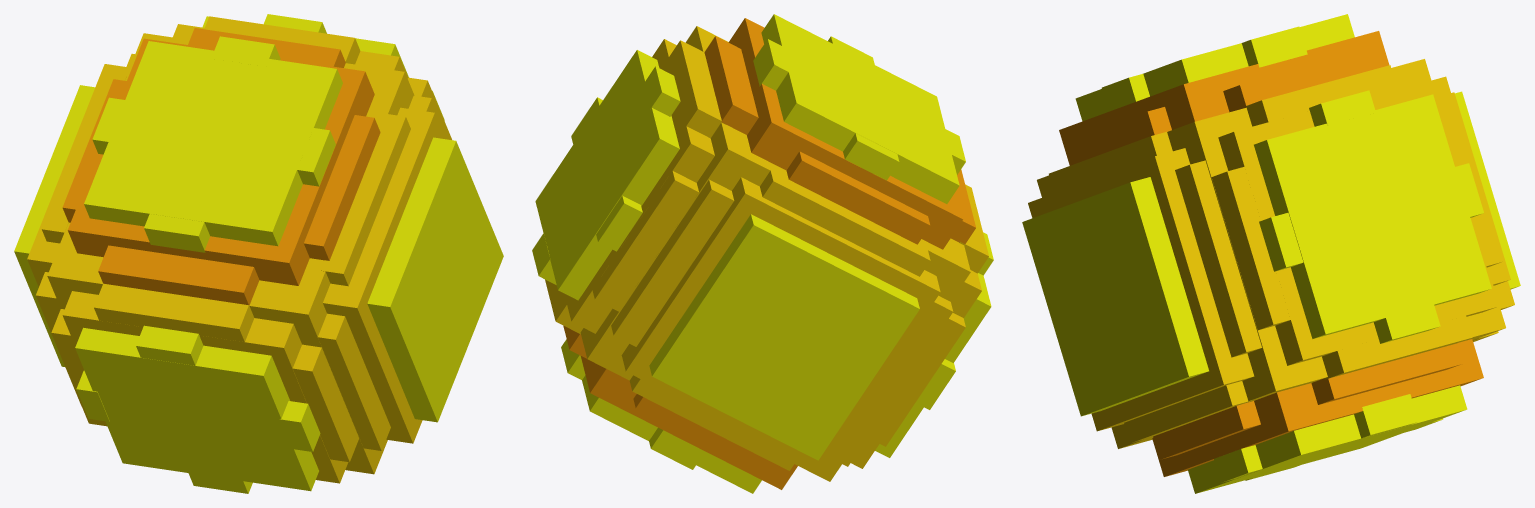
File: Yellow Voxel Planet.fbx
3 renders of one model, left to right at view 1: azimuth 30°, elevation 25°; view 2: azimuth 150°, elevation 25°; view 3: azimuth 270°, elevation 25°, orthographic. The views are drawn at different scales.
Parts seen in each view (by area): view 1: polySurface5312; view 2: polySurface5312; view 3: polySurface5312.
Part boxes in pixels (x1,y1,x2,y2): polySurface5312: (14,14,503,493); polySurface5312: (532,14,993,493); polySurface5312: (1022,14,1520,493).
Bounding box in the file's own units: 12.43 × 11.95 × 12.44.
